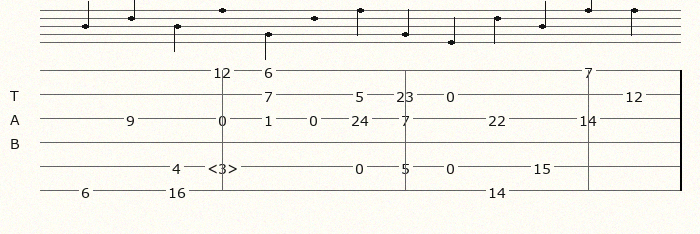0: (218, 111, 231, 125), (309, 111, 322, 125), (355, 159, 368, 173), (446, 159, 459, 173), (446, 87, 459, 101)
1: (264, 111, 277, 125)
12: (213, 63, 235, 77), (625, 87, 647, 101)
14: (488, 183, 510, 197), (579, 111, 601, 125)
15: (533, 159, 555, 173)
16: (168, 183, 190, 197)
22: (488, 111, 510, 125)
23: (396, 87, 418, 101)
24: (351, 111, 373, 125)
4: (172, 159, 185, 173)
5: (355, 87, 368, 101), (401, 159, 414, 173)
6: (81, 183, 94, 197), (264, 63, 277, 77)
7: (264, 87, 277, 101), (401, 111, 414, 125), (584, 63, 597, 77)
9: (126, 111, 139, 125)
harmonic: (207, 159, 242, 173)
